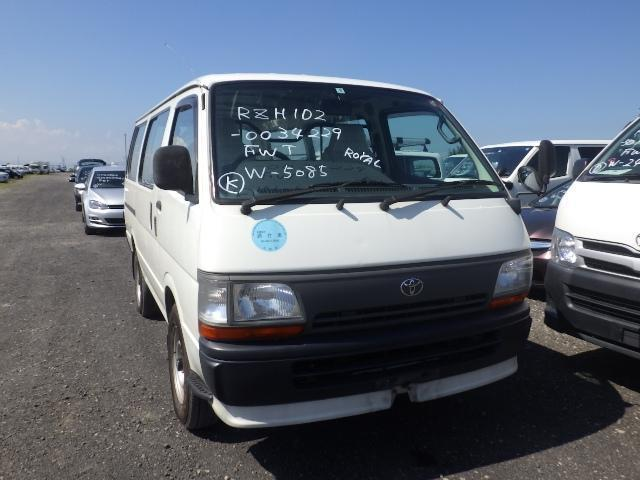van: (120, 76, 544, 422)
